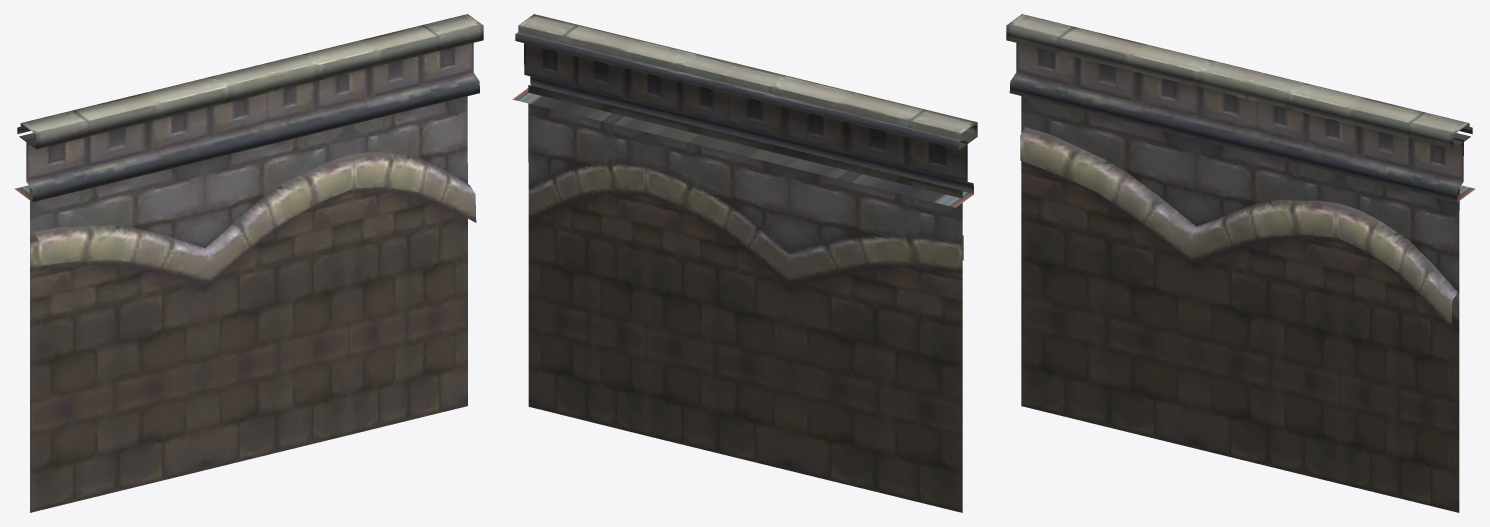
Rendered from S_Build_City132.FBX.
3 views of the same model, side by side, from view 1: azimuth 30°, elevation 25°; view 2: azimuth 150°, elevation 25°; view 3: azimuth 330°, elevation 25° (orthographic).
Visible parts, largest first — view 1: S_Build_City132; view 2: S_Build_City132; view 3: S_Build_City132.
Boxes of the visible parts, bbox=[...] form: S_Build_City132: bbox=[14, 14, 483, 512]; S_Build_City132: bbox=[512, 14, 977, 512]; S_Build_City132: bbox=[1006, 14, 1475, 512].
Bounding box in the file's own units: 505 × 418 × 43.17.
